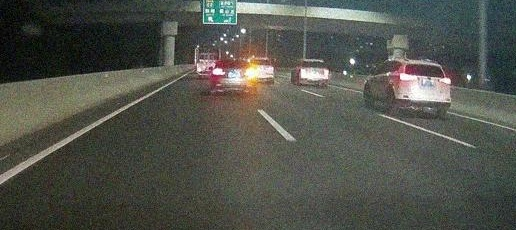L_light: (399, 73, 417, 81), (212, 68, 225, 75), (301, 69, 307, 72)
R_light: (439, 77, 452, 85), (244, 69, 256, 76), (323, 70, 328, 72)
T_light: (420, 64, 431, 67), (229, 60, 236, 62), (311, 61, 317, 63)
night-no: (395, 59, 452, 114), (298, 58, 329, 85)
night-right: (211, 59, 257, 96)
